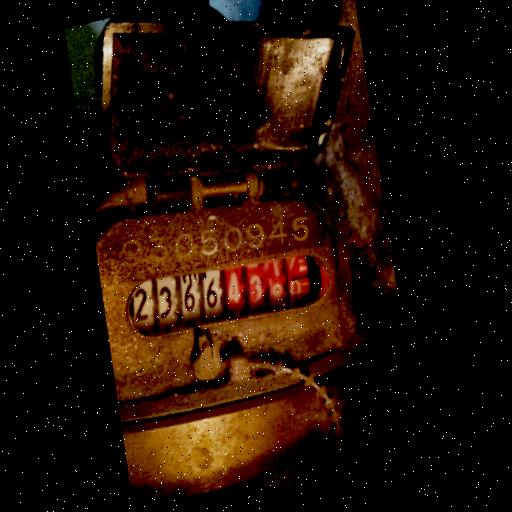2: (123, 277, 160, 340)
3: (149, 274, 187, 337), (241, 261, 272, 317)
4: (217, 264, 252, 324)
6: (173, 270, 207, 331), (195, 267, 229, 327)
7: (260, 256, 293, 316)
9: (279, 253, 313, 313)
border_water_meter_number: (119, 234, 338, 352)
